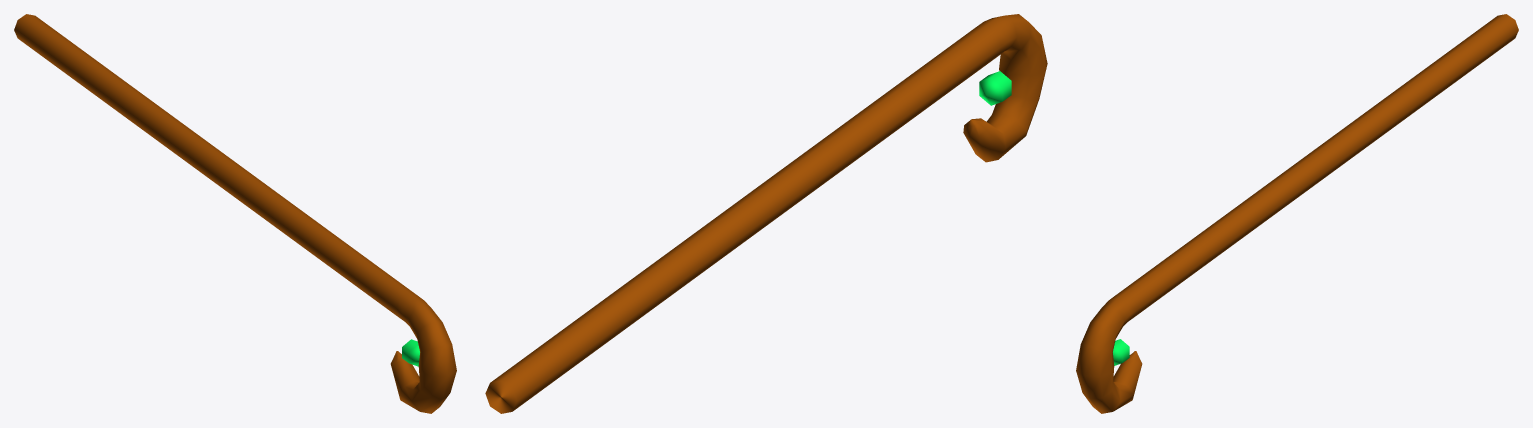
Rendered from NormalStaff_2.0v.fbx.
3 renders of one model, left to right at view 1: azimuth 30°, elevation 25°; view 2: azimuth 150°, elevation 25°; view 3: azimuth 330°, elevation 25°, orthographic. The views are drawn at different scales.
Visible parts, largest first — view 1: Cylinder.004; view 2: Cylinder.004; view 3: Cylinder.004.
Boxes of the visible parts, bbox=[...] form: Cylinder.004: bbox=[14, 14, 456, 413]; Cylinder.004: bbox=[485, 14, 1047, 413]; Cylinder.004: bbox=[1076, 14, 1518, 413].
Size of the model in its own units: 24.72 by 74.06 by 526.
